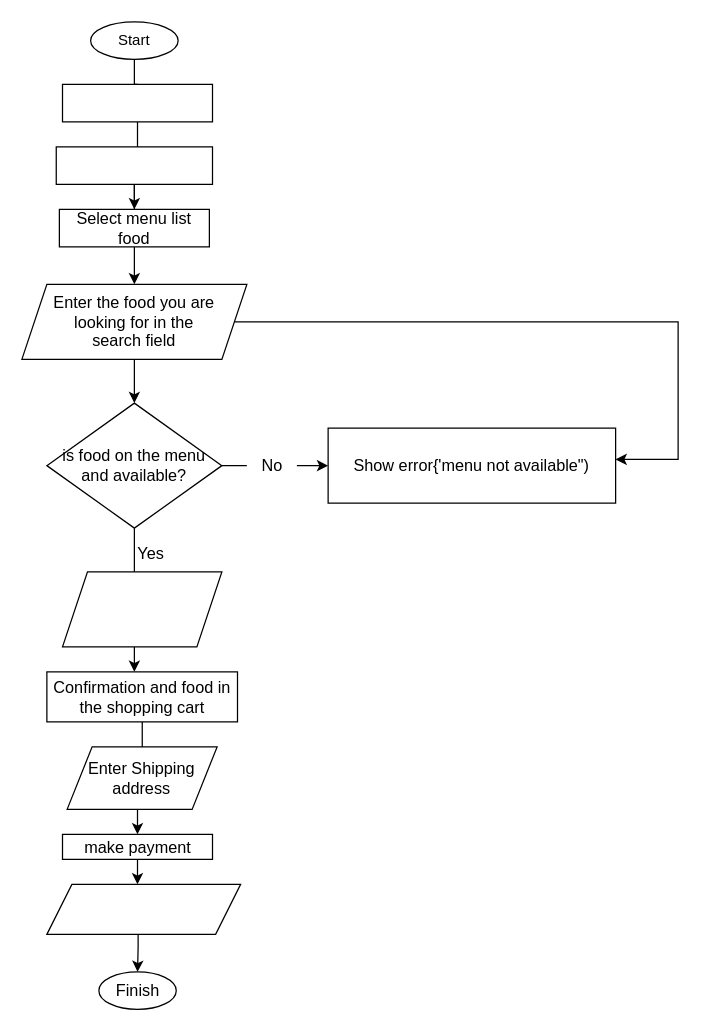
The diagram is 710 pixels wide and 1031 high, and some of its shapes have lost their labels. Here are the shapes that lost their labels. From the top down, the box of each, then its label:
(61, 83, 212, 122): Turn on the phone
(55, 146, 212, 184): Open The justtip app
(61, 571, 222, 647): Enter the amount of food
(46, 883, 241, 934): Get proof of payment
